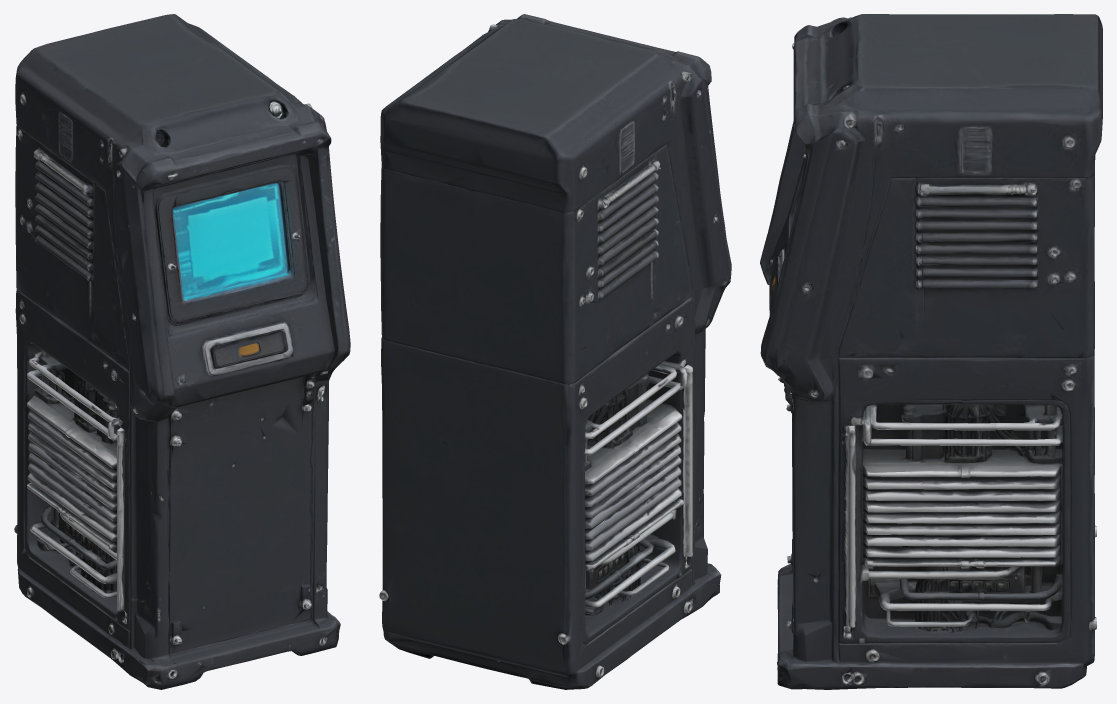
The model's file is terminal.glb.
The picture shows the model from 3 angles, left to right: view 1: azimuth 30°, elevation 25°; view 2: azimuth 150°, elevation 25°; view 3: azimuth 270°, elevation 25°; orthographic projection. The views are drawn at different scales.
Bounding box in the file's own units: 0.3892 × 0.9813 × 0.5171.
Materials: 1 (1 with a texture image).
